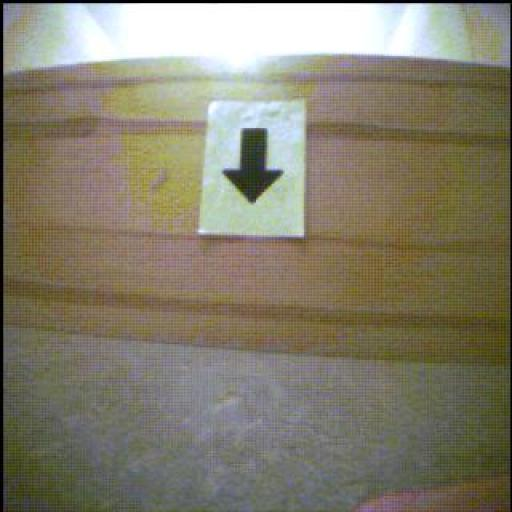arrow: (224, 129, 285, 204)
